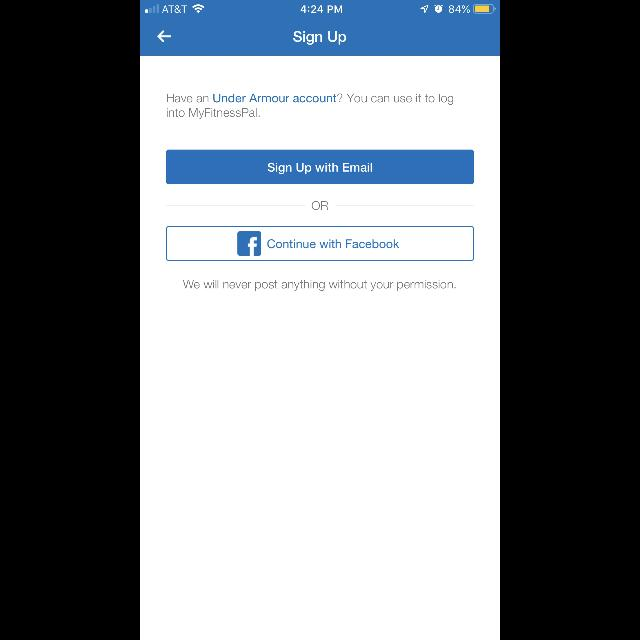icon: (158, 31, 172, 43)
text: (166, 94, 454, 120), (182, 280, 456, 290), (294, 31, 346, 45), (312, 202, 328, 210)
textbutton: (166, 226, 474, 262), (166, 150, 474, 184)
uppertaskbar: (140, 0, 500, 14)
